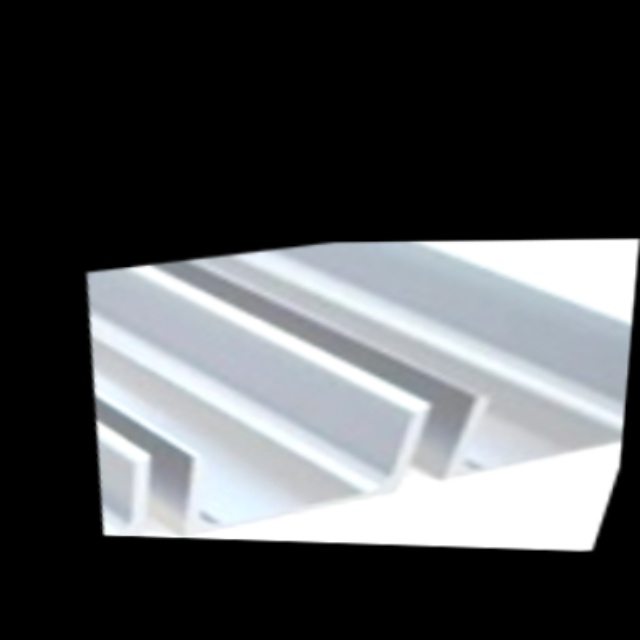Shveller: (163, 412, 426, 539), (445, 352, 630, 481), (73, 460, 161, 537)
